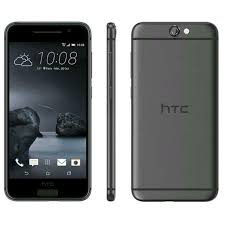htc: (127, 20, 221, 202), (3, 18, 93, 202)
